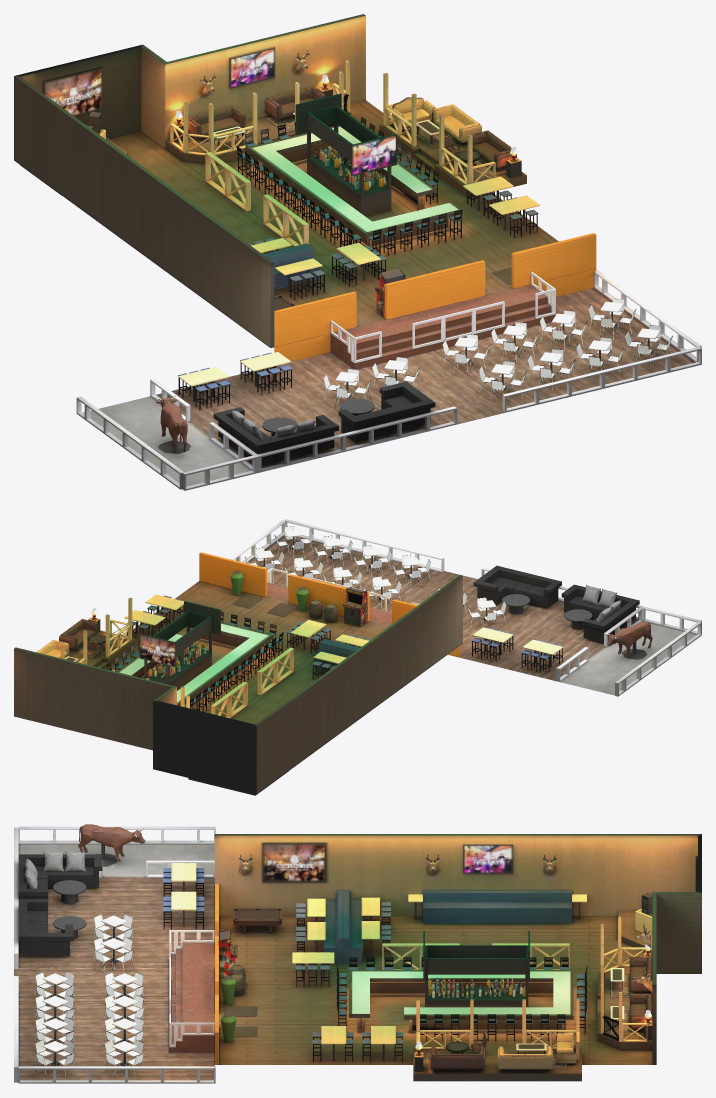
The model's file is Catttlemansy_1.glb.
3 views of the same model, one above another, from view 1: azimuth 30°, elevation 25°; view 2: azimuth 150°, elevation 25°; view 3: azimuth 270°, elevation 25° (orthographic). The views are drawn at different scales.
Visible parts, largest first — view 1: Stage_Baked; view 2: Stage_Baked; view 3: Stage_Baked.
Boxes of the visible parts, x1,y1,x2,y2 form: Stage_Baked: [14, 14, 701, 490]; Stage_Baked: [14, 519, 701, 795]; Stage_Baked: [14, 824, 701, 1083].
Size of the model in its own units: 29.12 by 5.17 by 32.96.
Materials: 2 (1 with a texture image).
